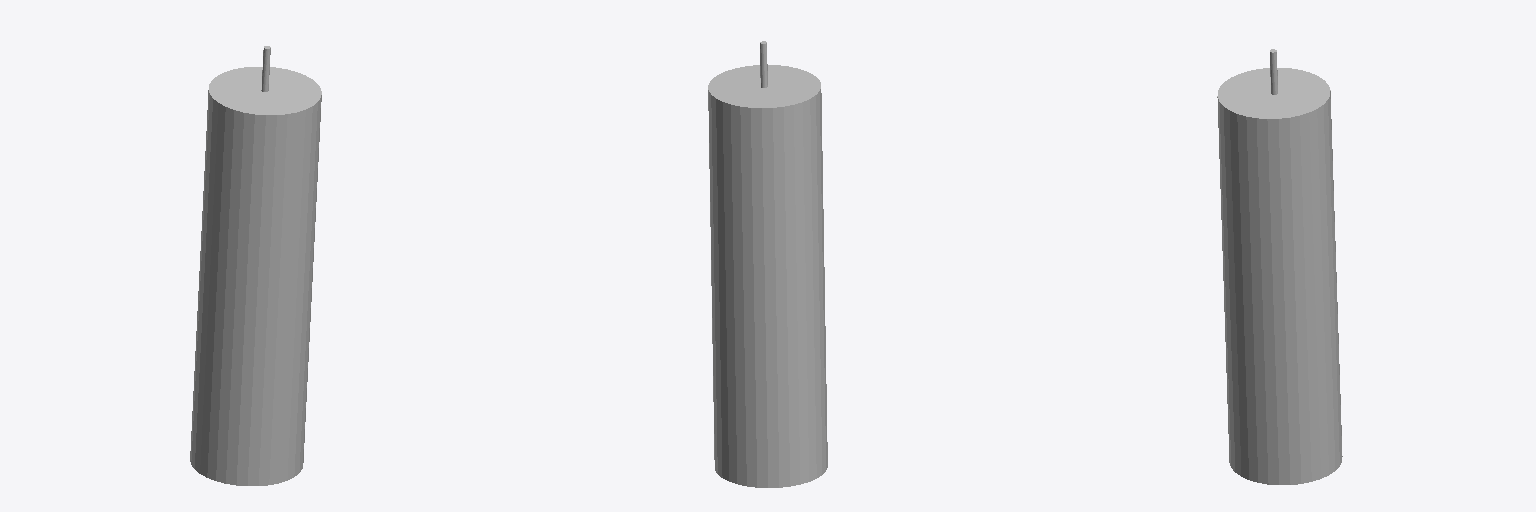
File: lamp.obj
3 views of the same model, side by side, from view 1: azimuth 30°, elevation 25°; view 2: azimuth 150°, elevation 25°; view 3: azimuth 270°, elevation 25° (orthographic).
Parts seen in each view (by area): view 1: Cylinder.001; view 2: Cylinder.001; view 3: Cylinder.001.
Part boxes in pixels (x1,y1,x2,y2): Cylinder.001: (190, 46, 321, 485); Cylinder.001: (708, 41, 827, 487); Cylinder.001: (1217, 49, 1342, 484).
Bounding box in the file's own units: 1.69 × 6.13 × 1.66.